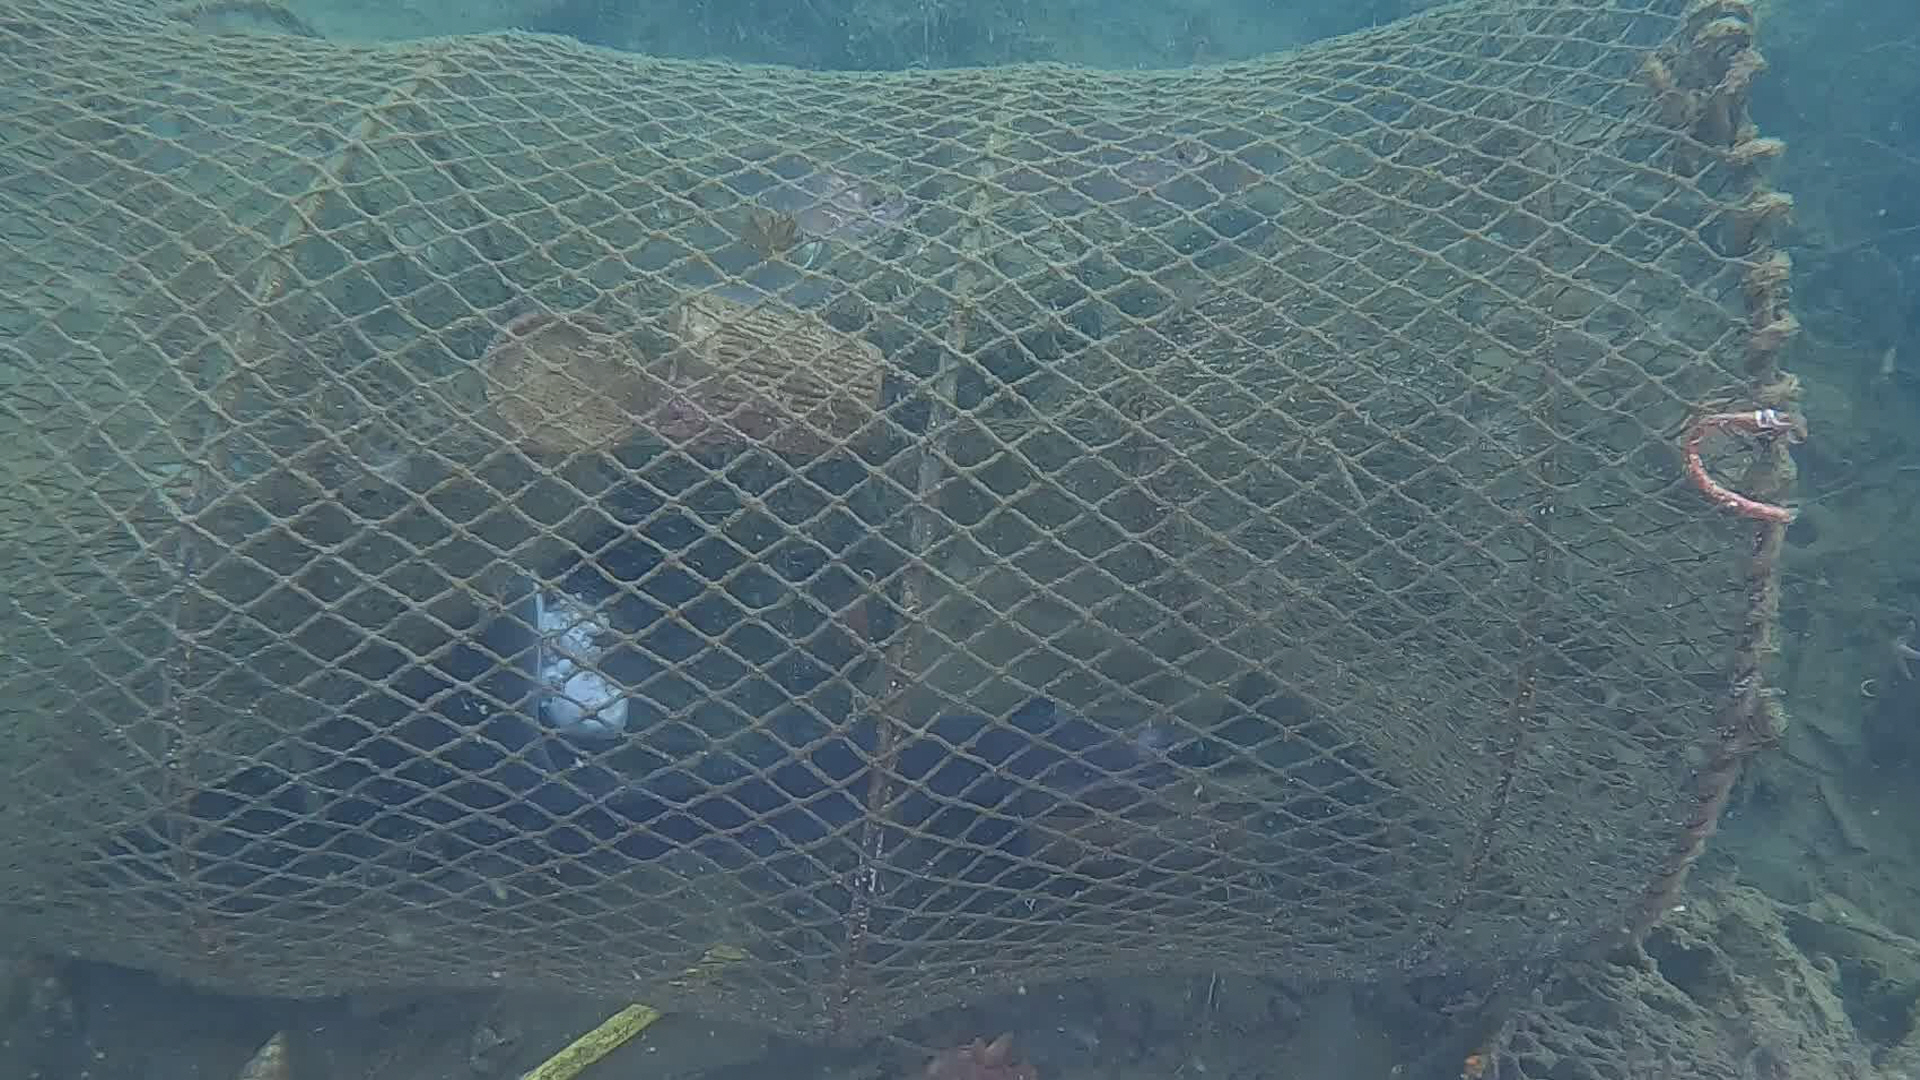spring fish trap: (0, 0, 1807, 1042)
